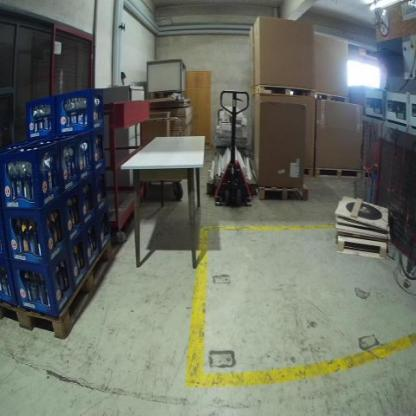pallet: (1, 239, 112, 341), (336, 235, 389, 260), (254, 83, 316, 101), (257, 185, 310, 201), (315, 166, 363, 181), (318, 90, 349, 105), (301, 168, 314, 180)
pallet_truck: (208, 88, 255, 209)
